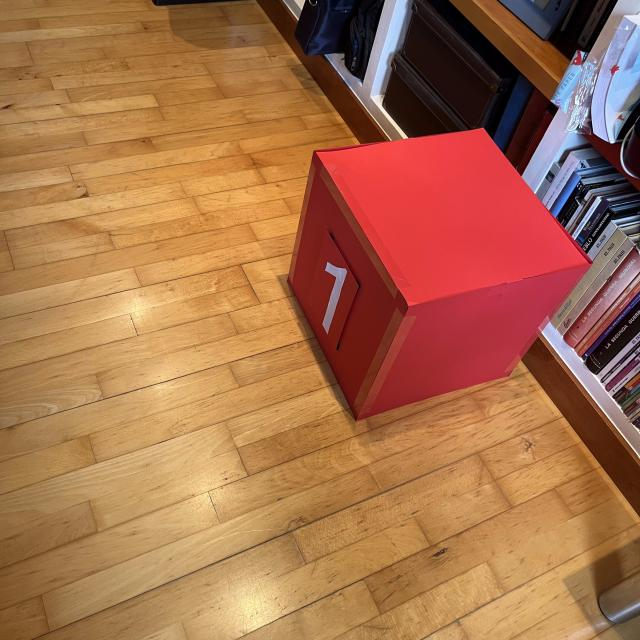box: (284, 125, 592, 423)
